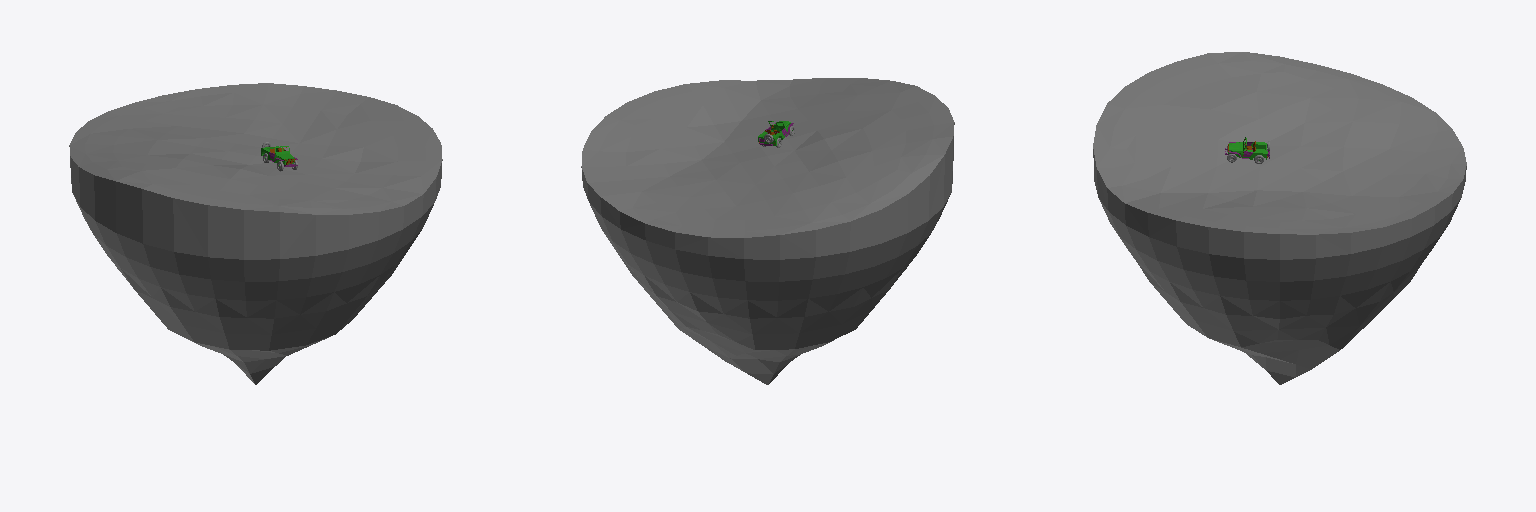
The model's file is JeepWithTerrain.obj.
3 views of the same model, side by side, from view 1: azimuth 30°, elevation 25°; view 2: azimuth 150°, elevation 25°; view 3: azimuth 270°, elevation 25° (orthographic).
Visible parts, largest first — view 1: Jeep:polySurface7 TerrainMesh; view 2: Jeep:polySurface7 TerrainMesh; view 3: Jeep:polySurface7 TerrainMesh.
Boxes of the visible parts, x1=… form: Jeep:polySurface7 TerrainMesh: x1=69, y1=83, x2=442, y2=384; Jeep:polySurface7 TerrainMesh: x1=581, y1=78, x2=954, y2=384; Jeep:polySurface7 TerrainMesh: x1=1093, y1=52, x2=1466, y2=384.
Bounding box in the file's own units: 92.86 × 71.08 × 92.86.